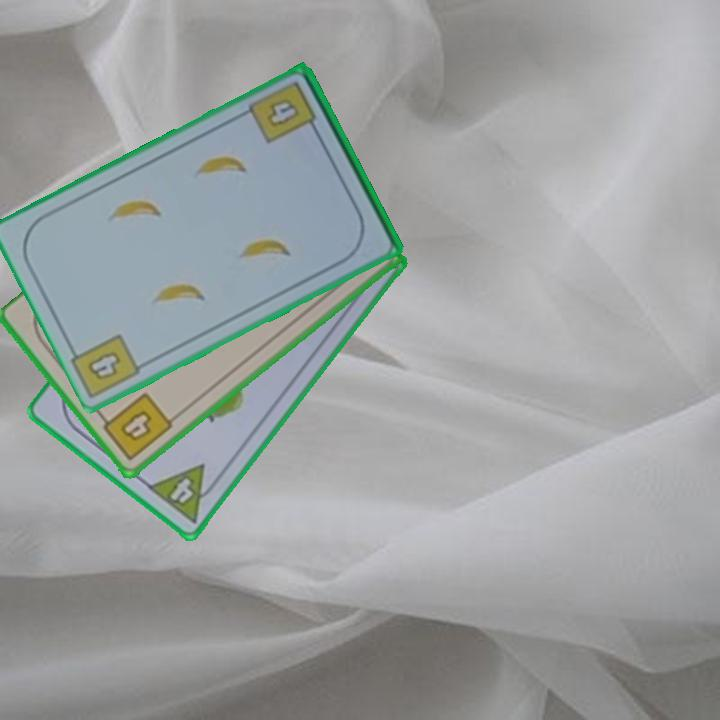4b: (95, 389, 176, 464), (247, 78, 322, 147), (83, 348, 124, 384)
4p: (144, 460, 224, 527)
